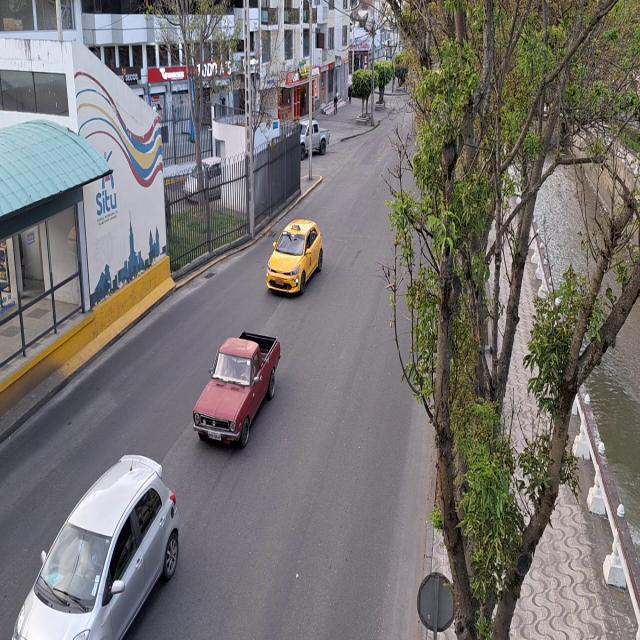CMT: (194, 332, 282, 450)
SED: (12, 453, 180, 639), (266, 218, 324, 296)
